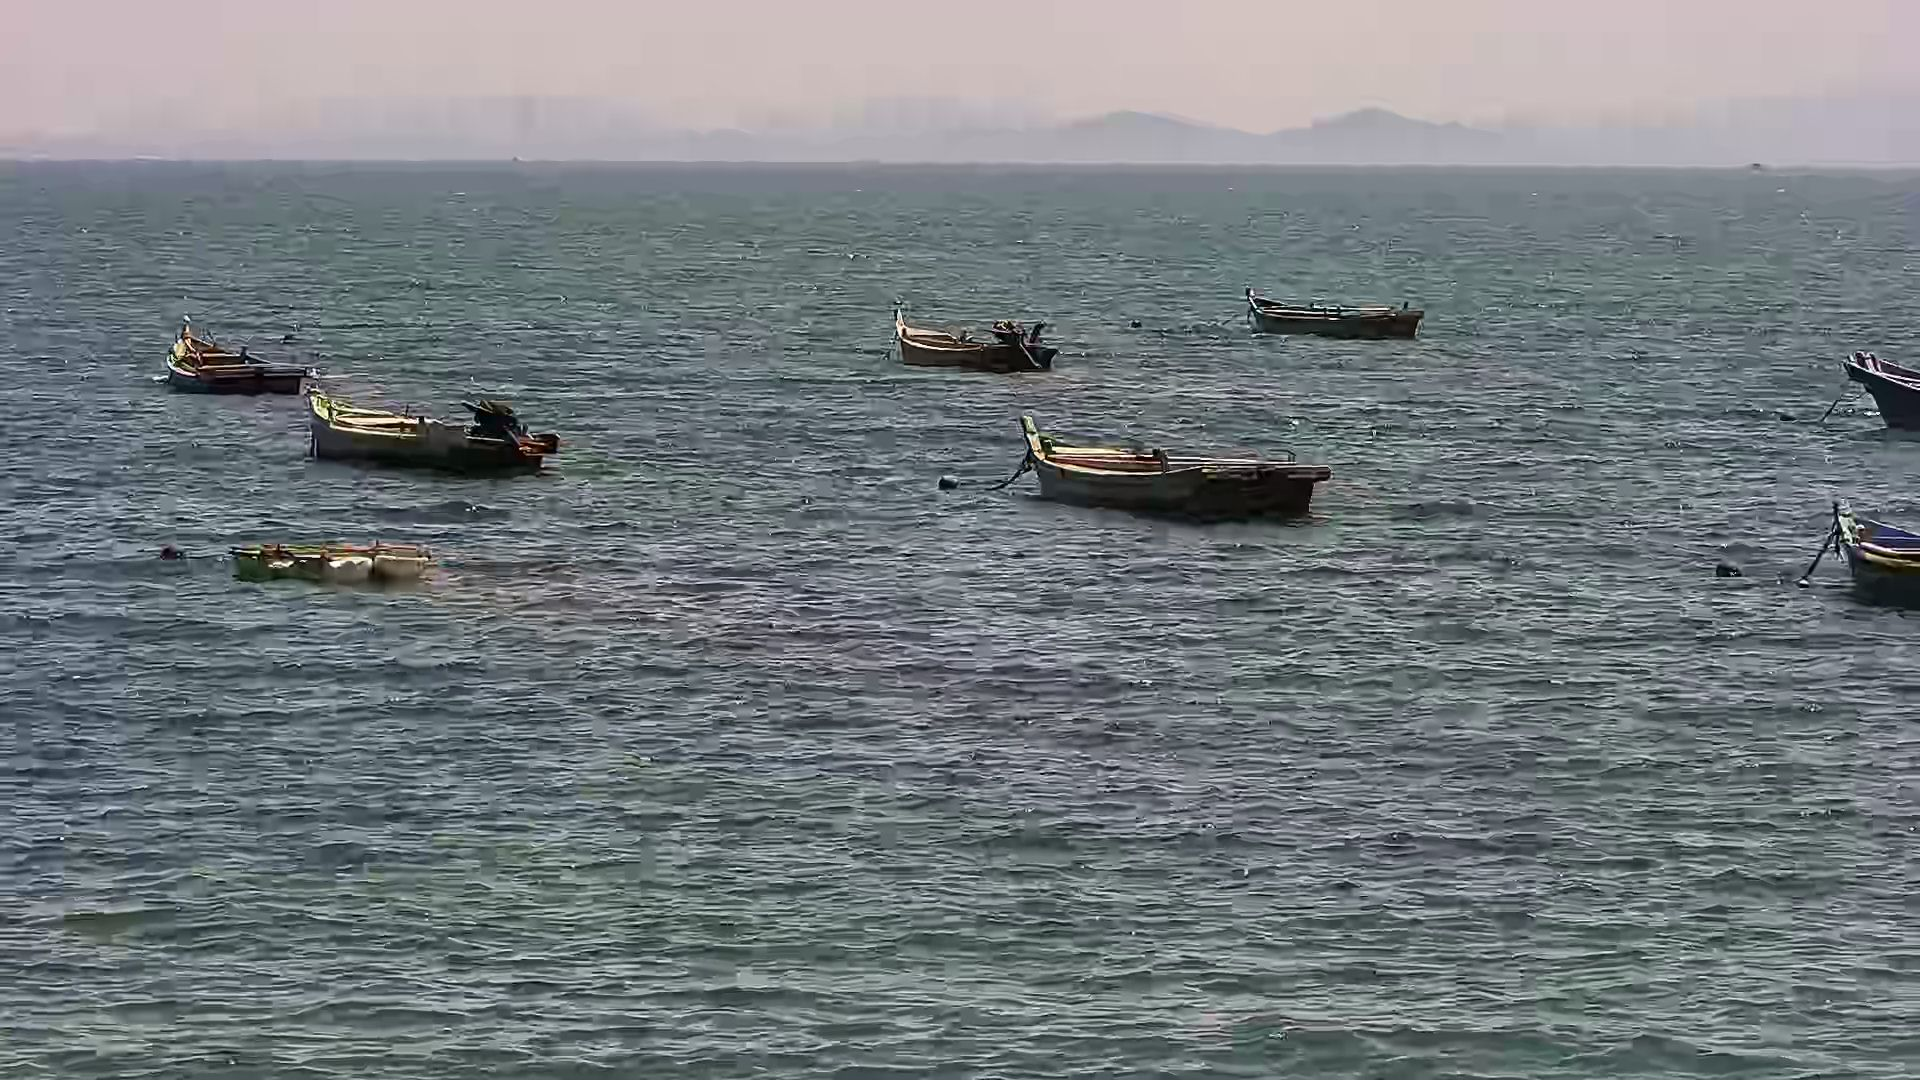ball: (927, 462, 982, 498), (1704, 553, 1749, 591), (152, 535, 190, 566), (1121, 305, 1149, 334)
boat: (1005, 392, 1342, 545), (295, 377, 567, 479), (1229, 265, 1448, 357), (214, 518, 454, 593), (877, 293, 1069, 380), (156, 297, 311, 396), (1811, 484, 1920, 622), (1818, 324, 1920, 452)
